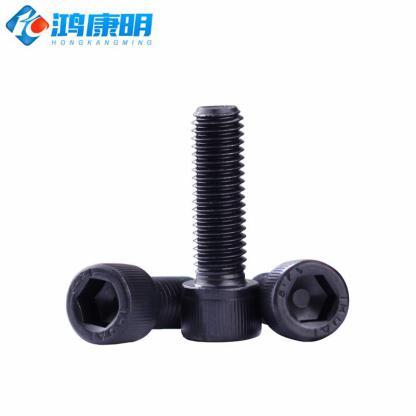FOD: (176, 103, 263, 344), (64, 260, 193, 352), (248, 259, 352, 345)
